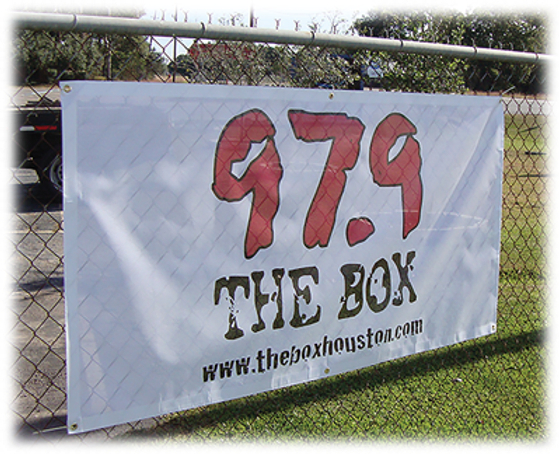vinyl banner: (49, 63, 516, 436)
